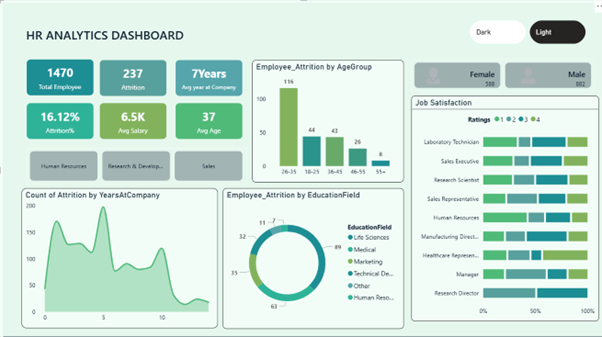

Layout of this report page (visuals, bound fields, positions):
{"tool":"powerbi","page":{"name":"Page 1","canvas":[1280,720],"ordinal":0},"visuals":[{"type":"shape","box":[0,0,1280,720.2],"z":0},{"type":"image","box":[1086.8,140,48,43.9],"z":1000},{"type":"image","box":[887.8,140,49.4,43.9],"z":2000},{"type":"card","fields":{"Values":["HR_Analytics.Employee_Attrition"]},"box":[212.7,129,140,75],"z":3000},{"type":"card","fields":{"Values":["HR_Analytics.Employee_Count"]},"box":[59,127.6,140,75],"z":4000},{"type":"card","fields":{"Values":["HR_Analytics.Years_With_Text"]},"box":[371.9,129,140,75],"z":5000},{"type":"card","fields":{"Values":["HR_Analytics.Attrition%"]},"box":[59,219.6,140,75.5],"z":6000},{"type":"card","fields":{"Values":["HR_Analytics.Avg_Salary"]},"box":[212.7,219.6,140,75.5],"z":7000},{"type":"card","fields":{"Values":["HR_Analytics.Avg_Age"]},"box":[371.9,219.6,140,75.5],"z":8000},{"type":"areaChart","fields":{"Y":["CountNonNull(HR_Analytics.Attrition)"],"Category":["HR_Analytics.YearsAtCompany"]},"box":[48,397.9,411.7,293.7],"z":9000},{"type":"donutChart","fields":{"Y":["HR_Analytics.Employee_Attrition"],"Category":["HR_Analytics.EducationField"]},"box":[470.7,397.9,380.1,295],"z":10000},{"type":"clusteredColumnChart","fields":{"Category":["HR_Analytics.AgeGroup"],"Y":["HR_Analytics.Employee_Attrition"]},"box":[532.4,129,318.4,256.6],"z":11000},{"type":"hundredPercentStackedBarChart","title":"Job Satisfaction","fields":{"Y":["HR_Analytics.Employee_Attrition"],"Series":["HR_Analytics.JobSatisfaction"],"Category":["HR_Analytics.JobRole"]},"box":[865.9,204.5,393.8,473.4],"z":12000},{"type":"advancedSlicerVisual","fields":{"Values":["HR_Analytics.Gender"]},"box":[865.9,127.6,384.2,67.2],"z":13000},{"type":"advancedSlicerVisual","fields":{"Values":["HR_Analytics.Department"]},"box":[59,314.2,462.4,76.8],"z":14000},{"type":"advancedSlicerVisual","fields":{"Values":["Dark_Mode.Mode"]},"box":[984.5,41,253.4,59.1],"z":15000},{"type":"shape","box":[58.2,41.1,540.7,68.4],"z":16000}]}

Visuals, with their boxes in screenshot pixels (x1, y1, x2, y2), scaled from the page's 1280x720 canvas onto the 602x337 screenshot:
shape: box(0, 0, 601, 336)
image: box(511, 66, 534, 86)
image: box(418, 66, 441, 86)
card - HR_Analytics.Employee_Attrition: box(100, 60, 166, 95)
card - HR_Analytics.Employee_Count: box(28, 60, 94, 95)
card - HR_Analytics.Years_With_Text: box(175, 60, 241, 95)
card - HR_Analytics.Attrition%: box(28, 103, 94, 138)
card - HR_Analytics.Avg_Salary: box(100, 103, 166, 138)
card - HR_Analytics.Avg_Age: box(175, 103, 241, 138)
areaChart - CountNonNull(HR_Analytics.Attrition) x HR_Analytics.YearsAtCompany: box(23, 186, 216, 324)
donutChart - HR_Analytics.Employee_Attrition x HR_Analytics.EducationField: box(221, 186, 400, 324)
clusteredColumnChart - HR_Analytics.AgeGroup x HR_Analytics.Employee_Attrition: box(250, 60, 400, 180)
"Job Satisfaction" hundredPercentStackedBarChart: box(407, 96, 592, 317)
advancedSlicerVisual - HR_Analytics.Gender: box(407, 60, 588, 91)
advancedSlicerVisual - HR_Analytics.Department: box(28, 147, 245, 183)
advancedSlicerVisual - Dark_Mode.Mode: box(463, 19, 582, 47)
shape: box(27, 19, 282, 51)
